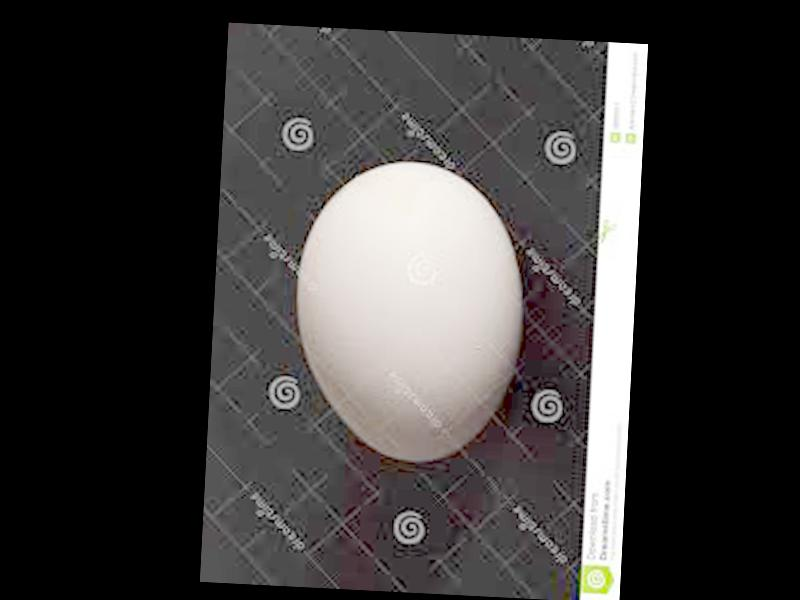Eggs: (289, 154, 528, 467)
